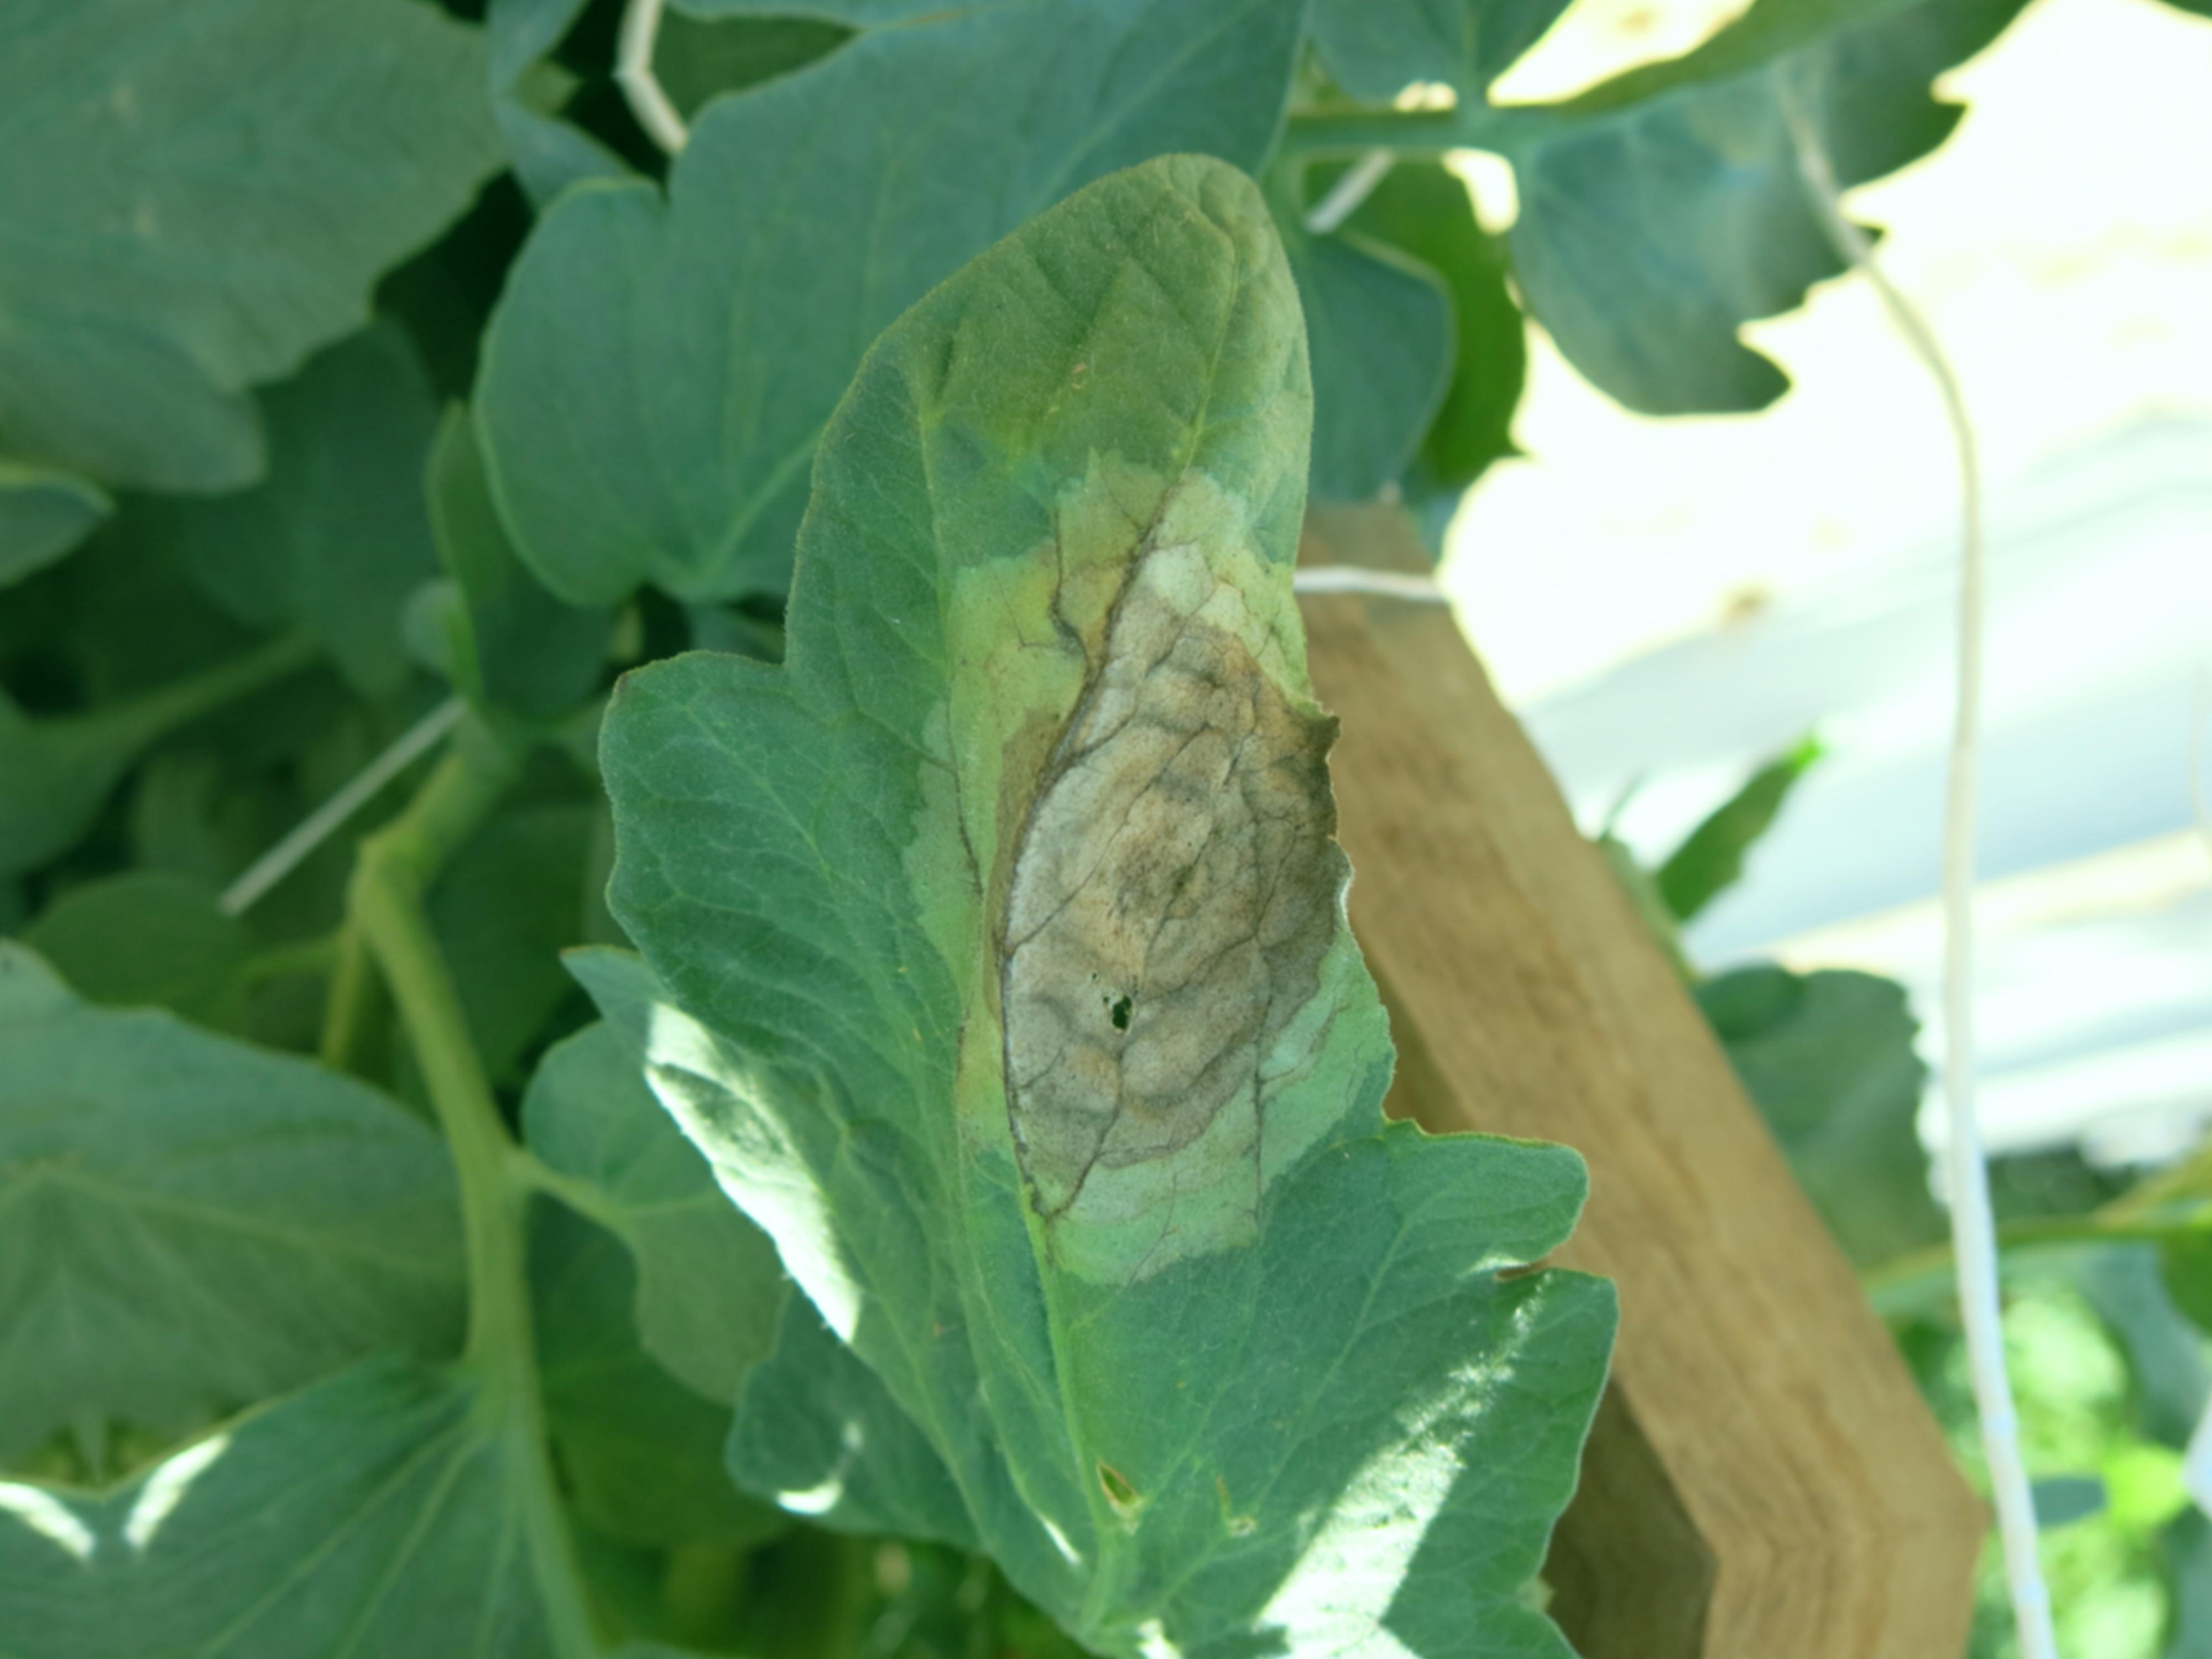Tomato leaf late blight: (374, 61, 1676, 1659)
